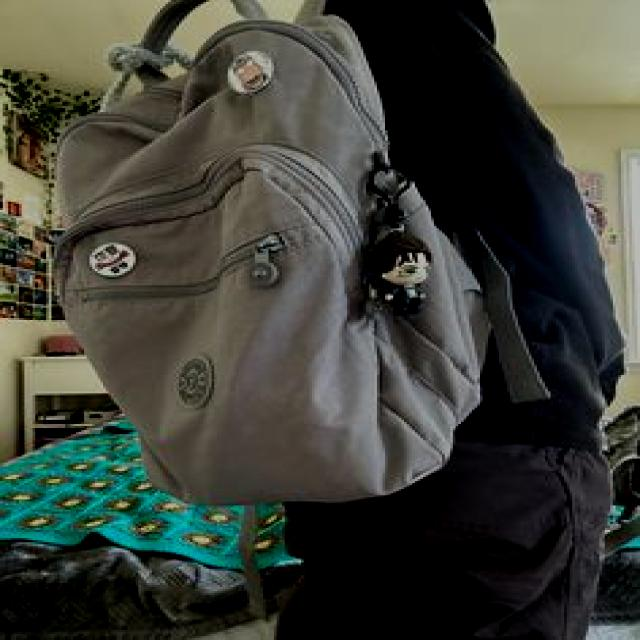backpack: (47, 1, 538, 509)
